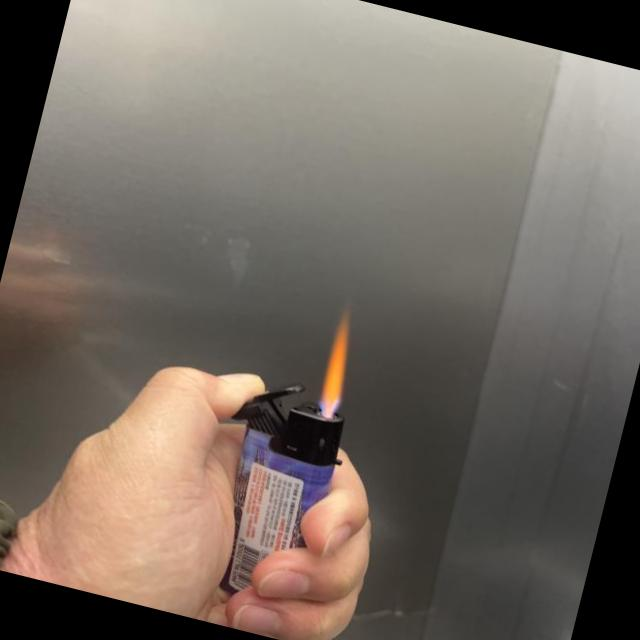Fire: (316, 308, 364, 417)
